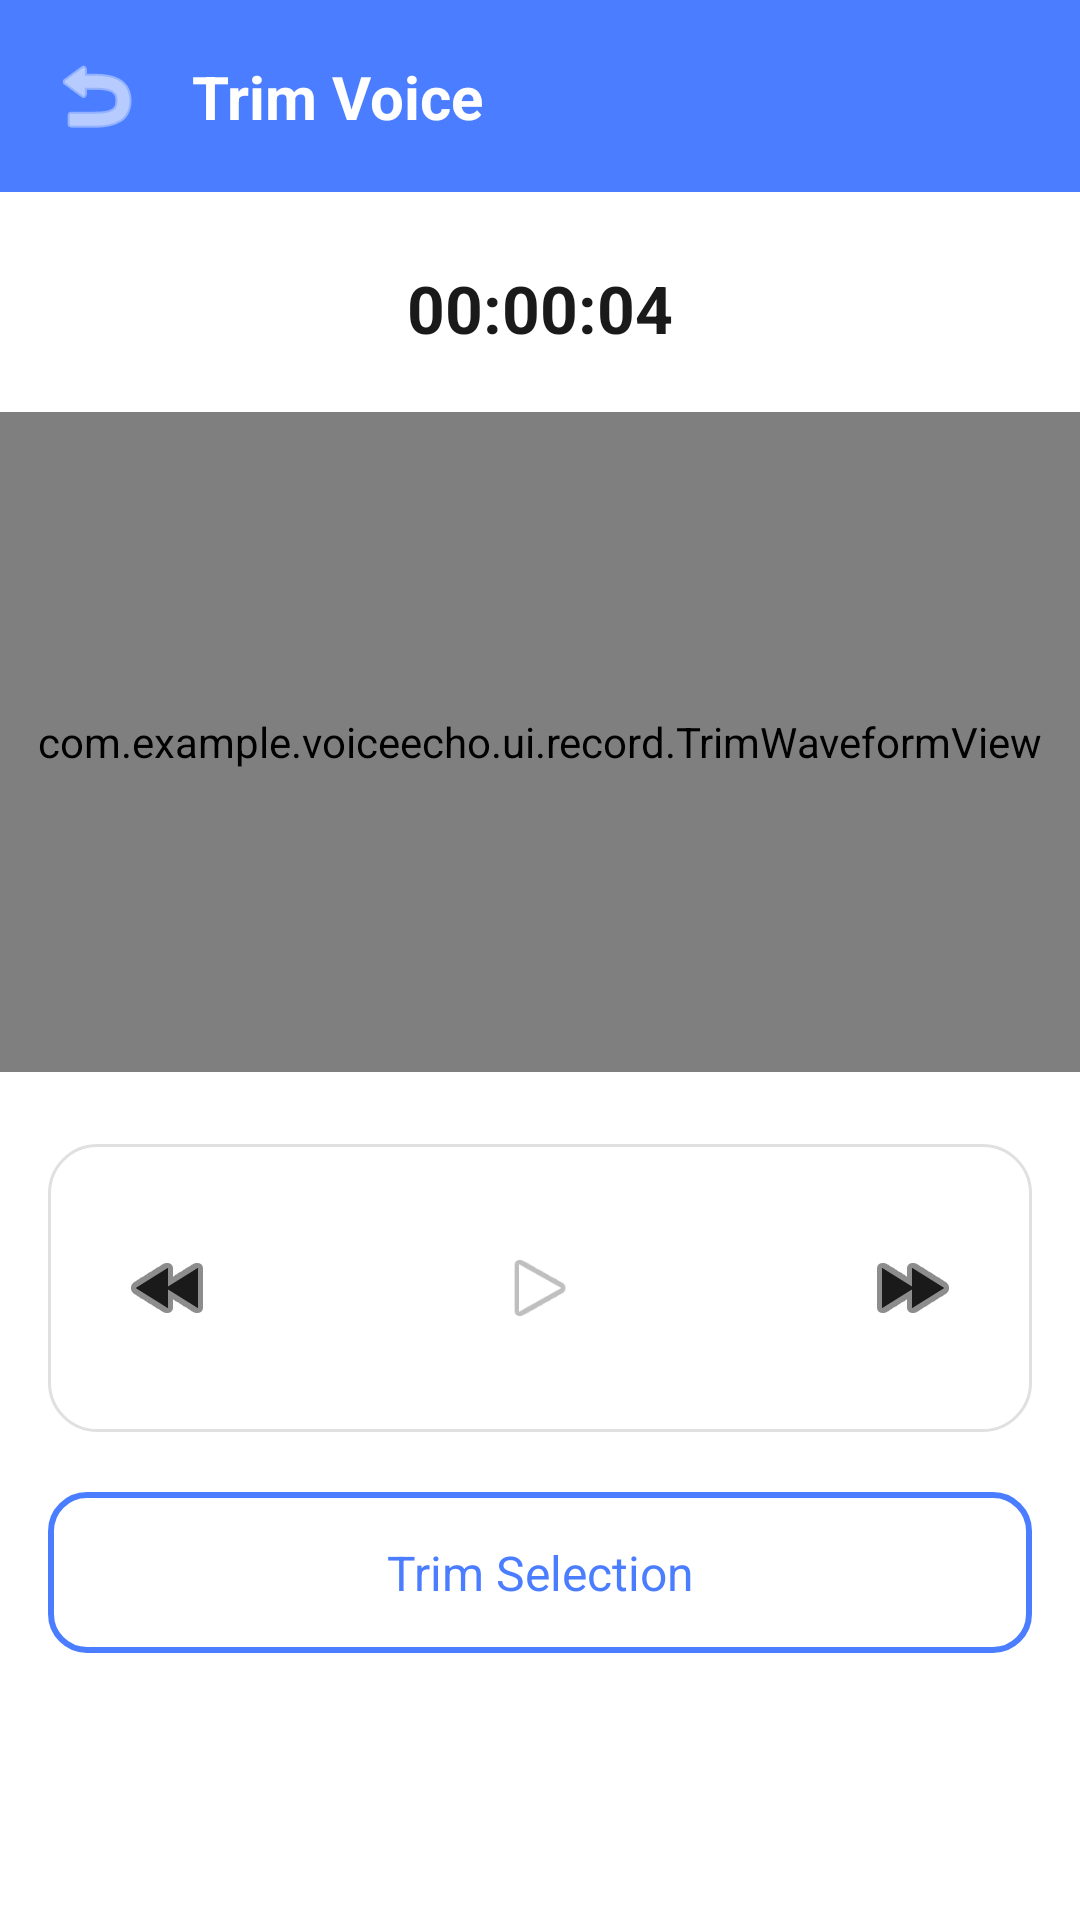

Icons on this 1080px x 1920px Android screen, each with the point to tap as (x,y):
Back: (97,96)
Forward 10 seconds: (913,1288)
Play selection: (540,1288)
Rewind 10 seconds: (167,1288)
